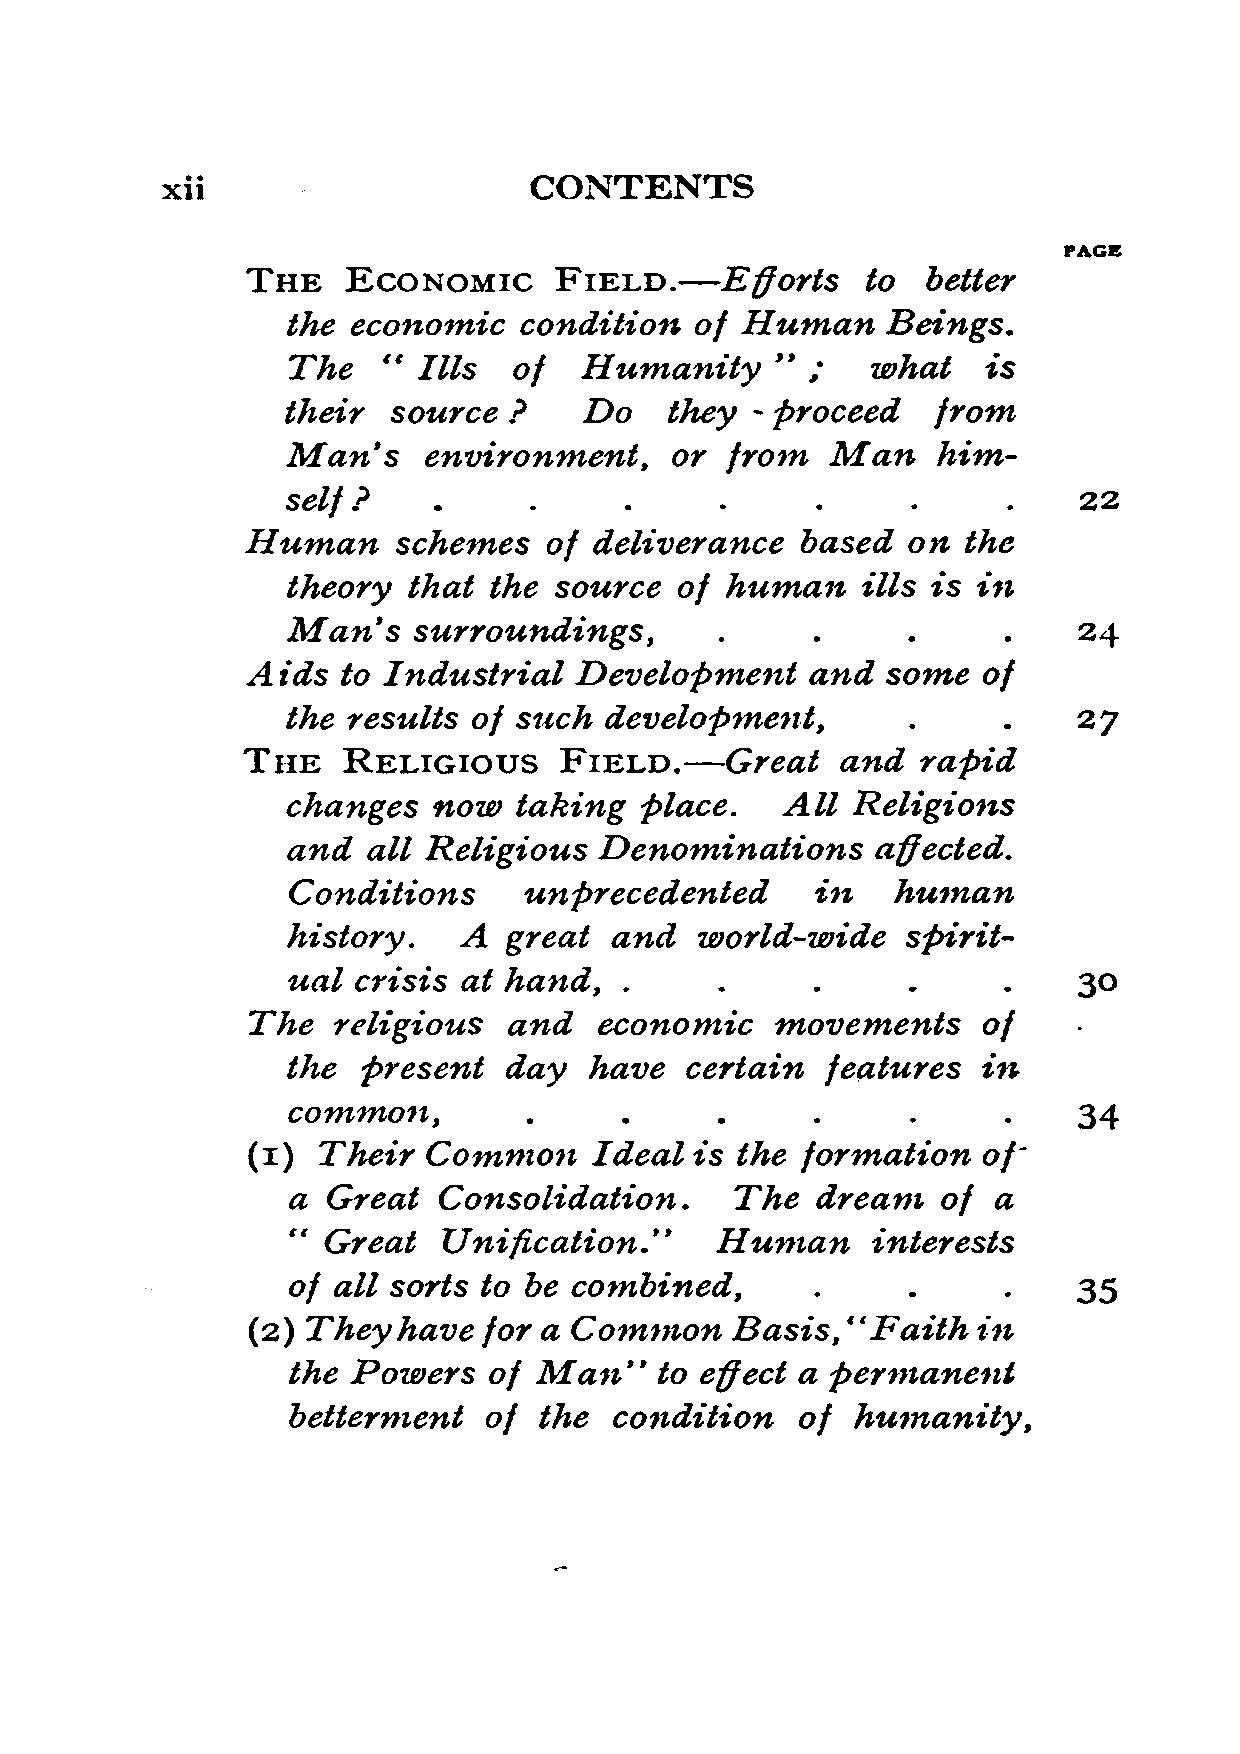TOC_chapter: (242, 251, 1029, 519), (234, 739, 1033, 1000), (235, 1141, 1027, 1303), (242, 1310, 1040, 1453), (228, 514, 1027, 641), (242, 1002, 1027, 1125), (238, 647, 1027, 733)
TOC_pagenumber: (1063, 1253, 1131, 1326), (1070, 611, 1137, 660), (1063, 1095, 1127, 1143), (1068, 476, 1133, 519), (1068, 702, 1129, 745), (1078, 965, 1122, 1002)
chapter: (522, 166, 754, 215)
